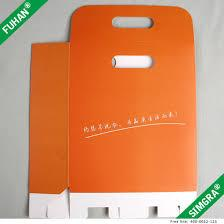Cardboard: (22, 0, 209, 217)
